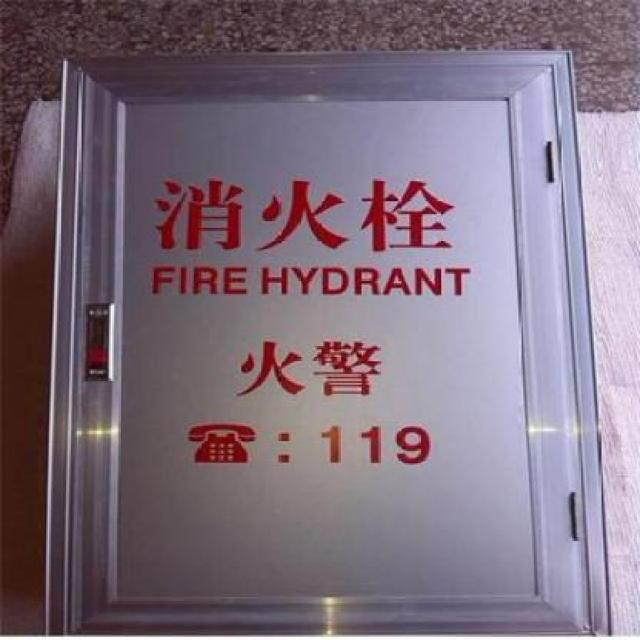firehydrant: (36, 46, 620, 640)
